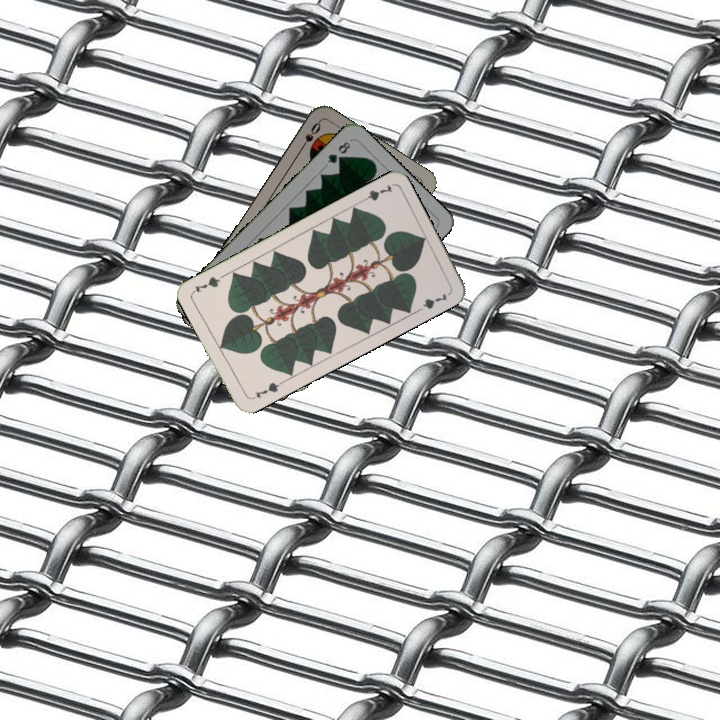G7: (356, 180, 395, 205), (247, 377, 285, 402)
G8: (323, 137, 353, 166)
SO: (296, 117, 324, 154)
